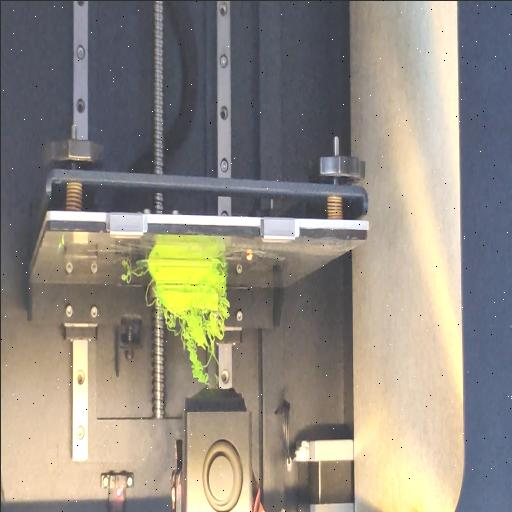spaghetti: (164, 307, 230, 391), (120, 268, 146, 282), (143, 280, 153, 310), (219, 258, 227, 270)
